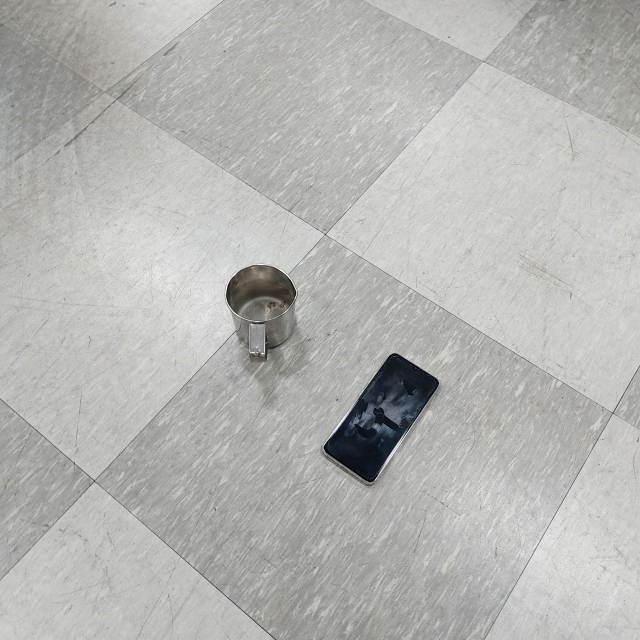cup: (223, 260, 299, 360)
phone: (320, 352, 440, 492)
